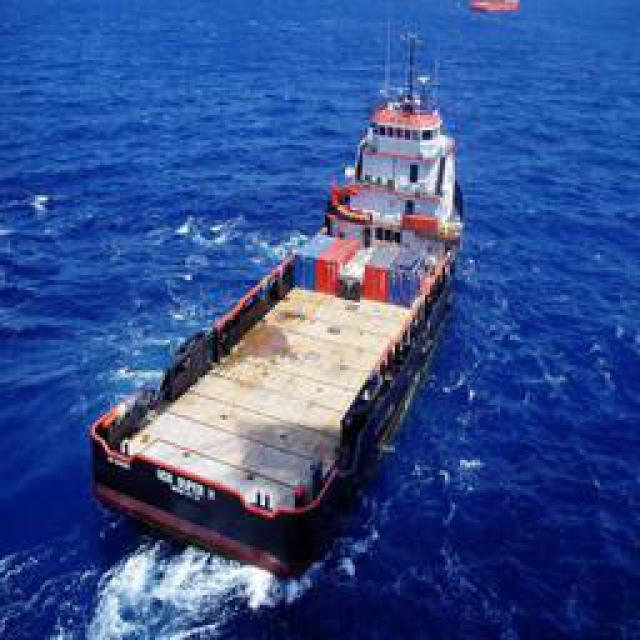Ship: (86, 50, 471, 578)
